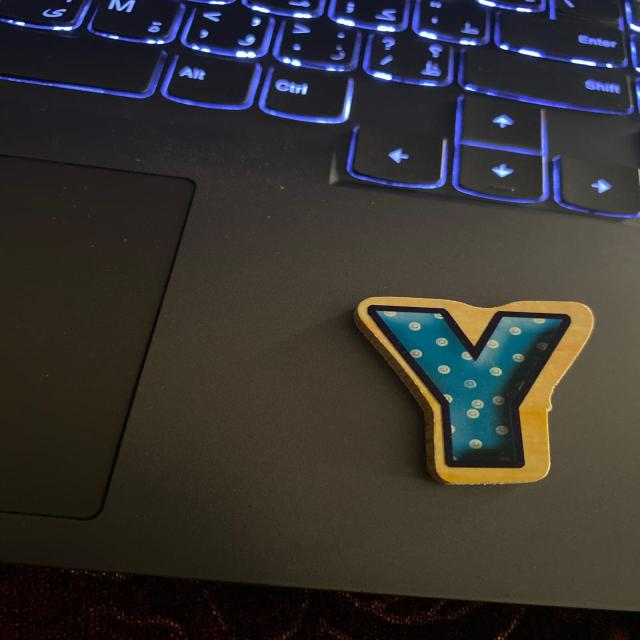Y: (355, 297, 593, 485)
